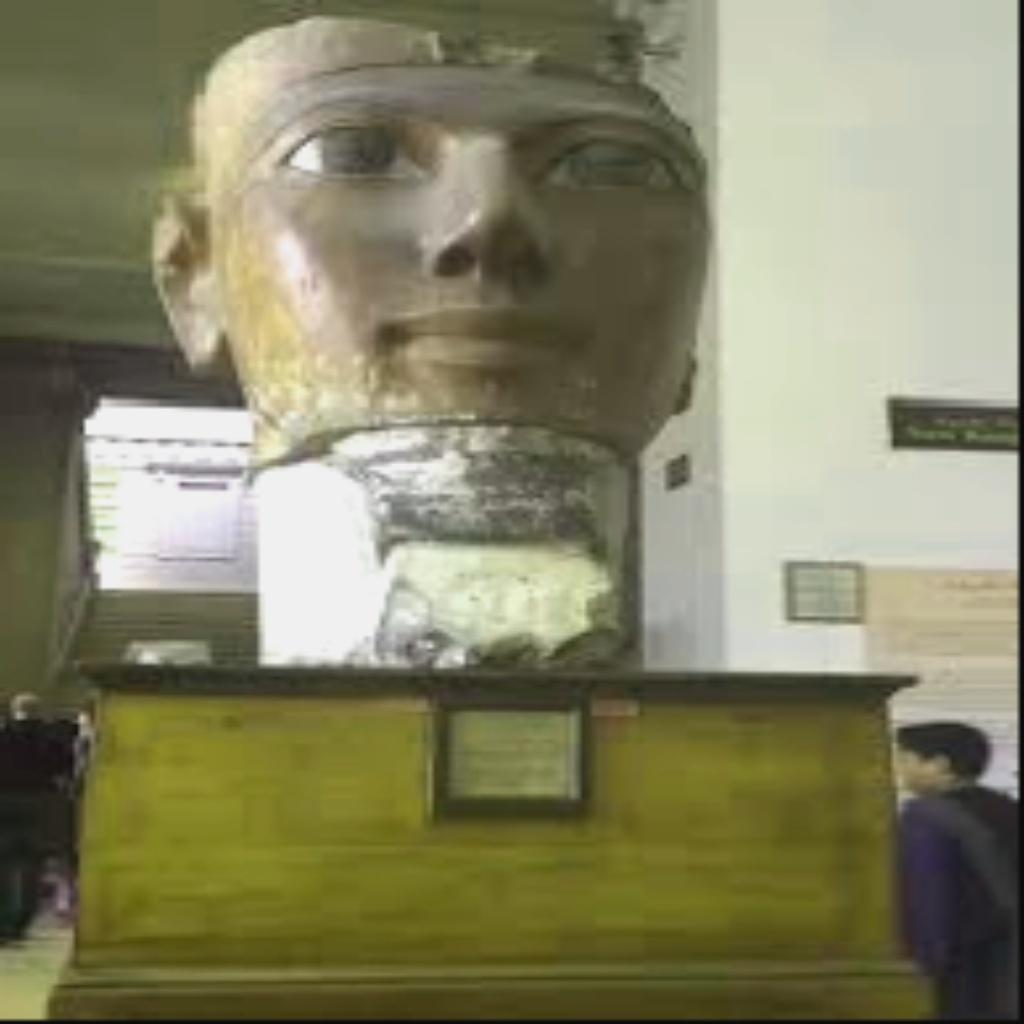Hatshepsut face: (142, 8, 724, 668)
